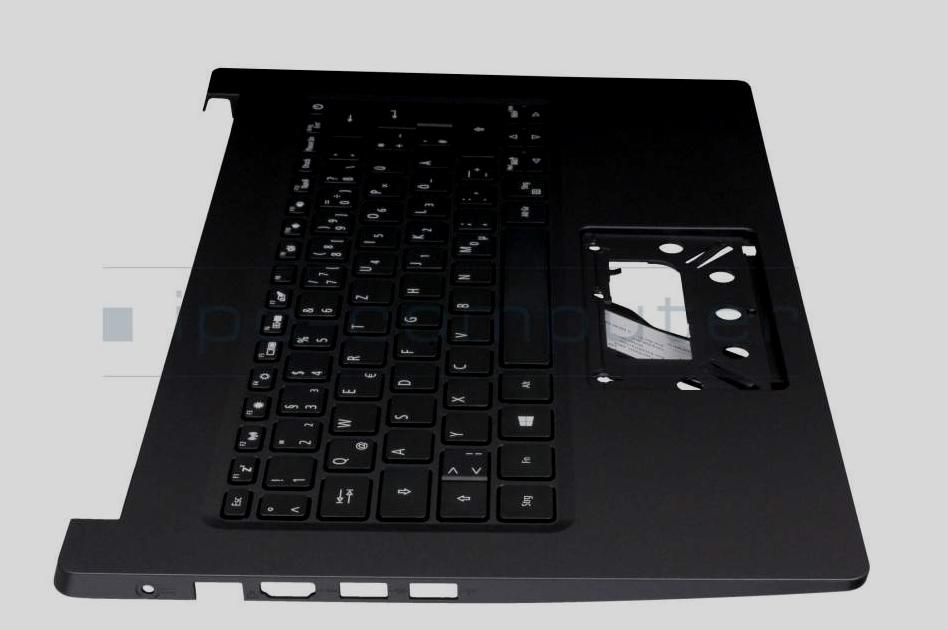0: (317, 187, 357, 210)
1: (264, 458, 314, 489)
2: (272, 420, 319, 452)
3: (279, 385, 323, 415)
4: (284, 353, 332, 381)
5: (291, 323, 335, 348)
6: (296, 292, 339, 318)
7: (303, 265, 343, 288)
8: (307, 236, 349, 260)
9: (312, 211, 351, 234)
a: (385, 428, 433, 461)
accent: (327, 141, 365, 160)
ae: (413, 148, 451, 170)
alt-left: (499, 369, 553, 403)
altgr-right: (502, 201, 547, 226)
b: (450, 288, 494, 312)
c: (447, 345, 492, 375)
caret: (258, 493, 311, 521)
comma: (456, 209, 495, 230)
d: (392, 364, 437, 390)
del: (330, 100, 368, 139)
e: (336, 370, 383, 400)
enter: (376, 101, 453, 124)
f: (395, 331, 439, 359)
g: (397, 302, 442, 327)
h: (400, 274, 445, 299)
hash: (416, 127, 451, 145)
i: (357, 225, 400, 249)
j: (402, 247, 445, 270)
k: (405, 222, 447, 244)
keyboard: (219, 93, 571, 529)
l: (409, 195, 448, 219)
less: (441, 448, 490, 479)
m: (452, 234, 495, 258)
minus: (457, 159, 496, 183)
n: (452, 261, 494, 283)
o: (361, 201, 401, 223)
oe: (411, 172, 449, 192)
p: (365, 177, 404, 198)
plus: (371, 131, 409, 151)
point: (455, 184, 497, 207)
q: (325, 437, 375, 470)
r: (340, 339, 386, 366)
s: (387, 396, 435, 424)
shift-left: (437, 483, 490, 522)
shift-lock: (381, 466, 429, 520)
shift-right: (459, 103, 496, 155)
space: (502, 229, 551, 366)
ss: (323, 162, 361, 183)
strg-left: (497, 485, 555, 522)
t: (344, 308, 389, 335)
tab: (322, 477, 371, 520)
u: (354, 252, 395, 276)
ue: (369, 153, 407, 174)
v: (449, 315, 494, 342)
w: (331, 404, 379, 434)
x: (444, 378, 493, 408)
y: (444, 411, 490, 444)
z: (349, 279, 392, 306)
